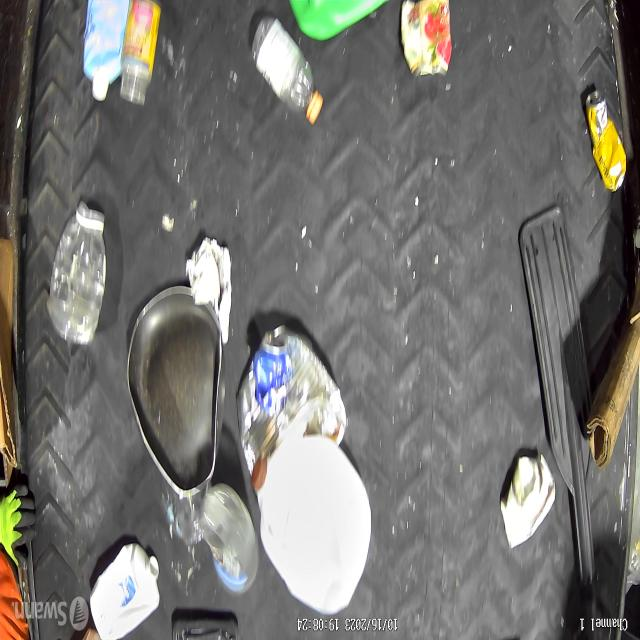can: (235, 321, 348, 476), (497, 449, 556, 552), (584, 86, 627, 192), (398, 0, 452, 83)
milk_jug: (252, 434, 373, 618), (88, 539, 160, 640)
non_white_jug: (81, 0, 131, 110), (287, 0, 390, 44)
plastic_bottle: (46, 199, 107, 345), (248, 14, 323, 128)
